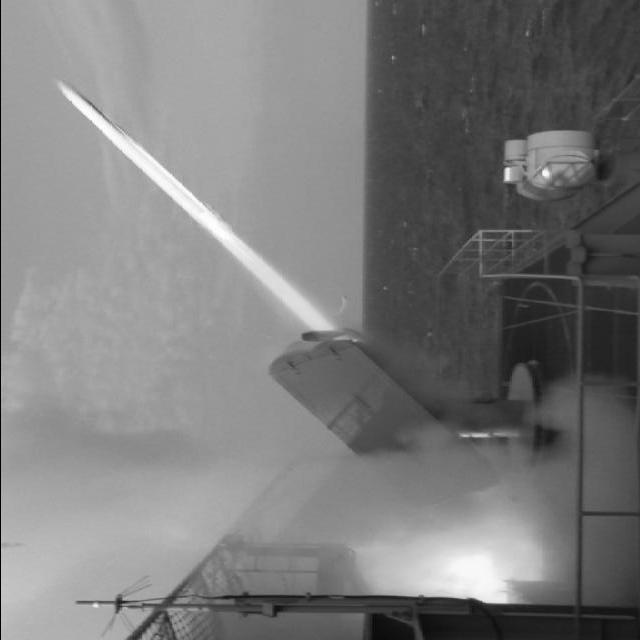missile: (39, 72, 203, 220)
